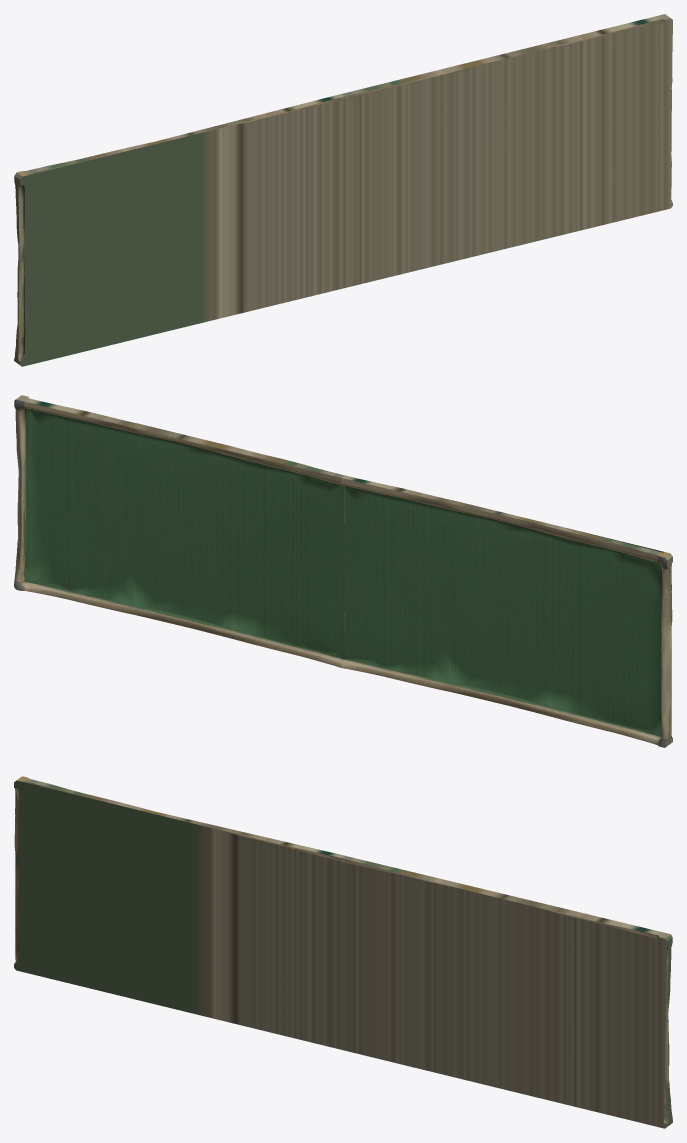
File: board.fbx
The picture shows the model from 3 angles, top to bottom: view 1: azimuth 30°, elevation 25°; view 2: azimuth 150°, elevation 25°; view 3: azimuth 330°, elevation 25°; orthographic projection.
Visible parts, largest first — view 1: material_0.001, material_0; view 2: material_0, material_0.001; view 3: material_0, material_0.001.
Boxes of the visible parts, x1,y1,x2,y2 form: material_0.001: [14, 94, 346, 366]; material_0: [342, 14, 672, 287]; material_0: [14, 395, 344, 667]; material_0.001: [341, 475, 672, 747]; material_0: [340, 856, 672, 1128]; material_0.001: [14, 776, 345, 1049].
Size of the model in its own units: 189 by 52.7 by 3.11.
Materials: 2 (2 with a texture image).
